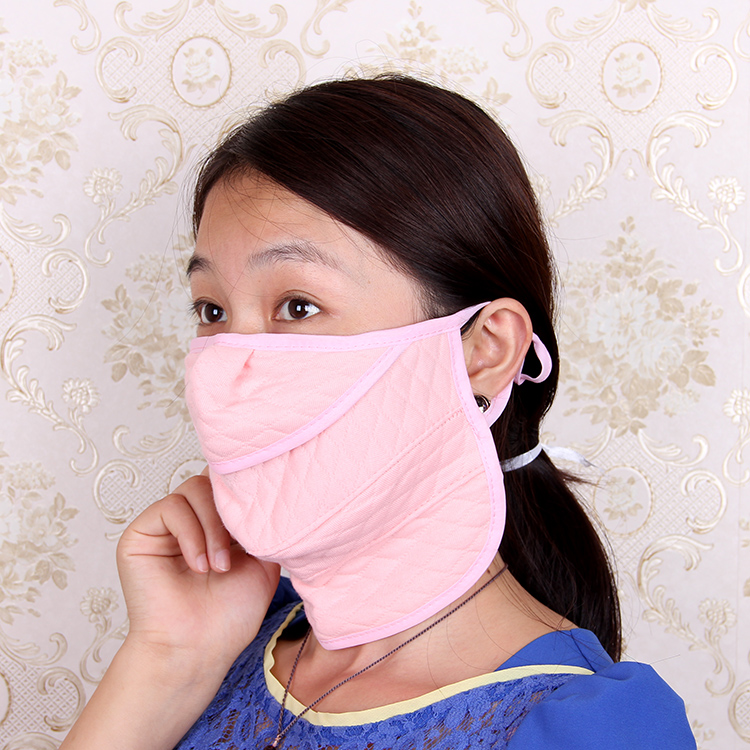face_mask: (186, 174, 447, 556)
